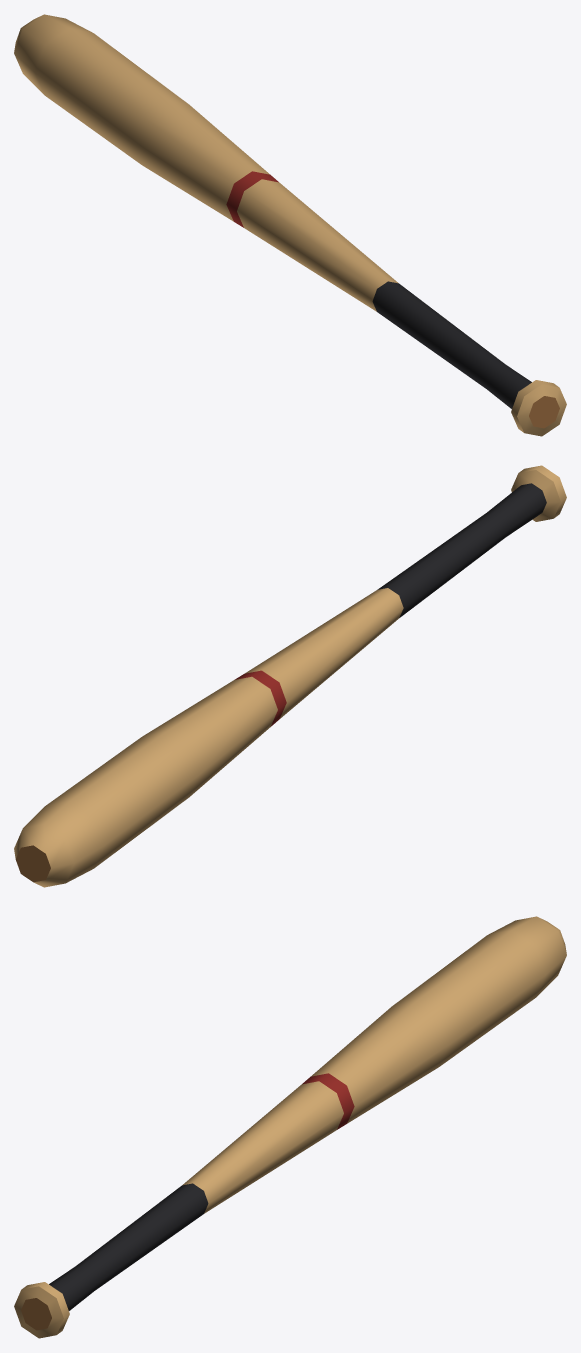
Rendered from bat.glb.
The picture shows the model from 3 angles, top to bottom: view 1: azimuth 30°, elevation 25°; view 2: azimuth 150°, elevation 25°; view 3: azimuth 330°, elevation 25°; orthographic projection.
Visible parts, largest first — view 1: bat__body; view 2: bat__body; view 3: bat__body.
Boxes of the visible parts, x1,y1,x2,y2 form: bat__body: (14, 14, 566, 436); bat__body: (14, 465, 566, 887); bat__body: (14, 916, 566, 1338).
Size of the model in its own units: 0.066 by 0.066 by 0.85.
1 material, 1 textured.
